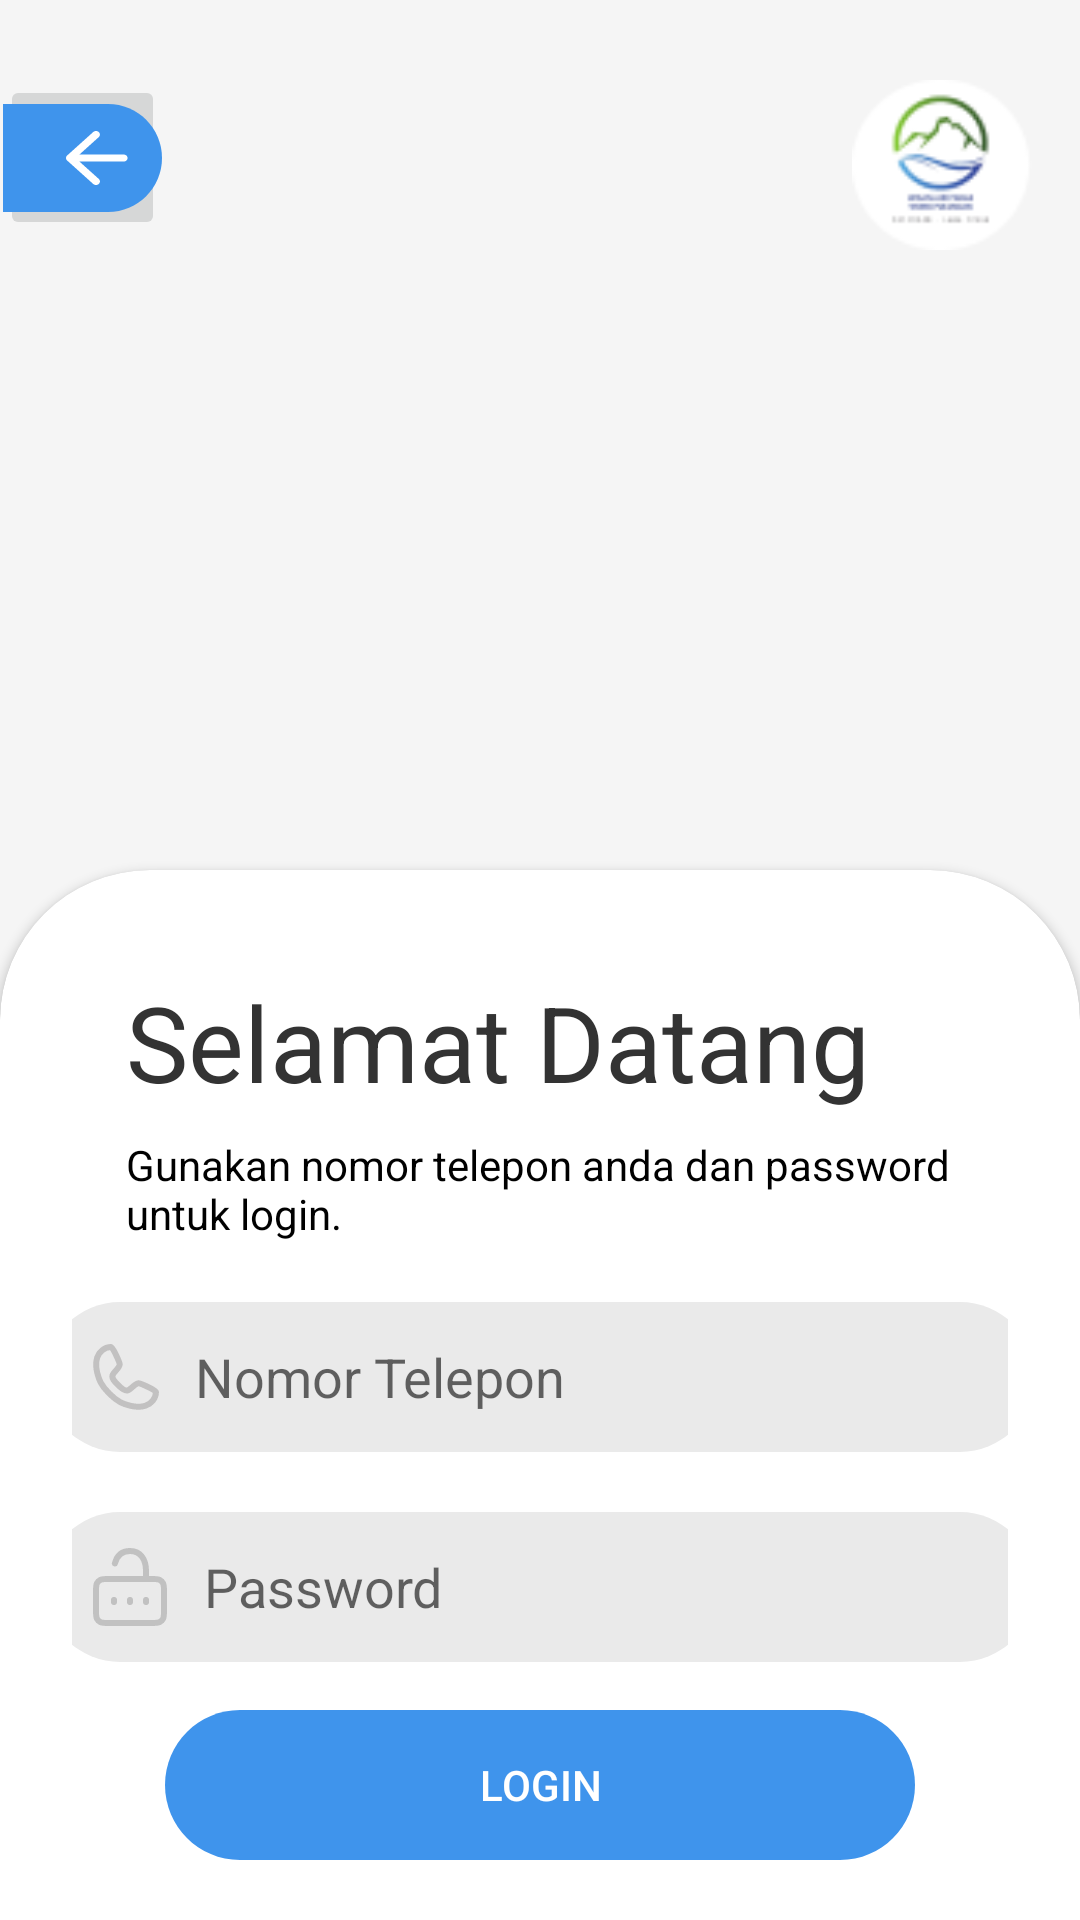

Where to tap for icons on this 1080*1920 app screen, as (x,y):
Tombol Kembali: (82,157)
